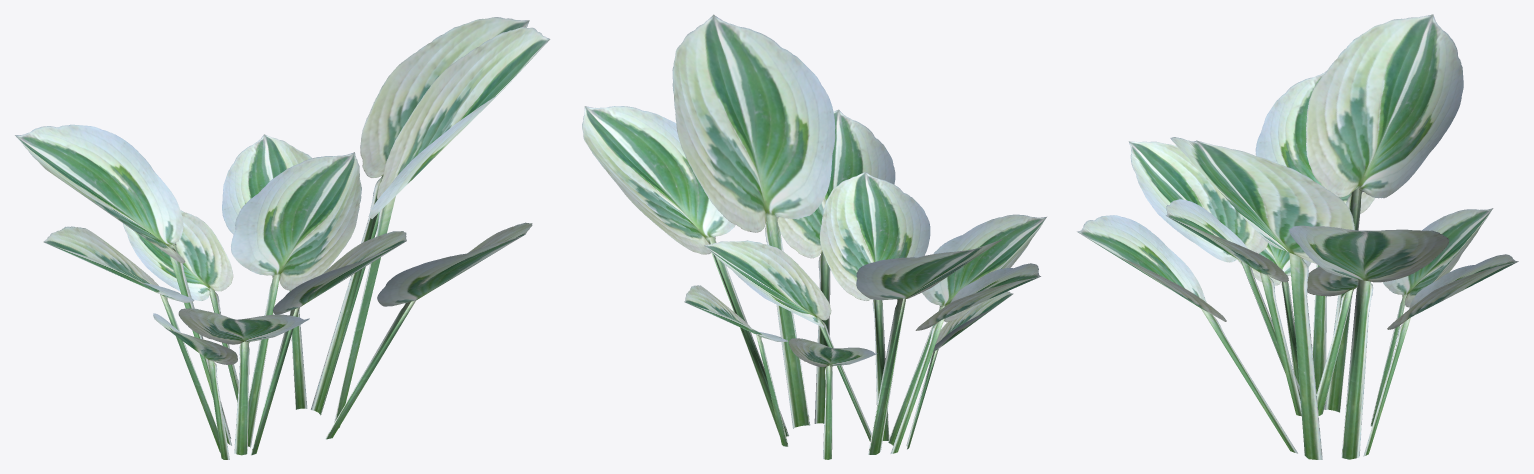
Rendered from plant_small_wg_01X.fbx.
The picture shows the model from 3 angles, left to right: view 1: azimuth 30°, elevation 25°; view 2: azimuth 150°, elevation 25°; view 3: azimuth 270°, elevation 25°; orthographic projection. The views are drawn at different scales.
Parts seen in each view (by area): view 1: plant_small_wg_01X; view 2: plant_small_wg_01X; view 3: plant_small_wg_01X.
Part boxes in pixels (box(x1,y1,x2,y2)): plant_small_wg_01X: box(15, 17, 550, 459); plant_small_wg_01X: box(582, 14, 1046, 459); plant_small_wg_01X: box(1077, 14, 1518, 459).
Size of the model in its own units: 94.67 by 70.13 by 71.27.
